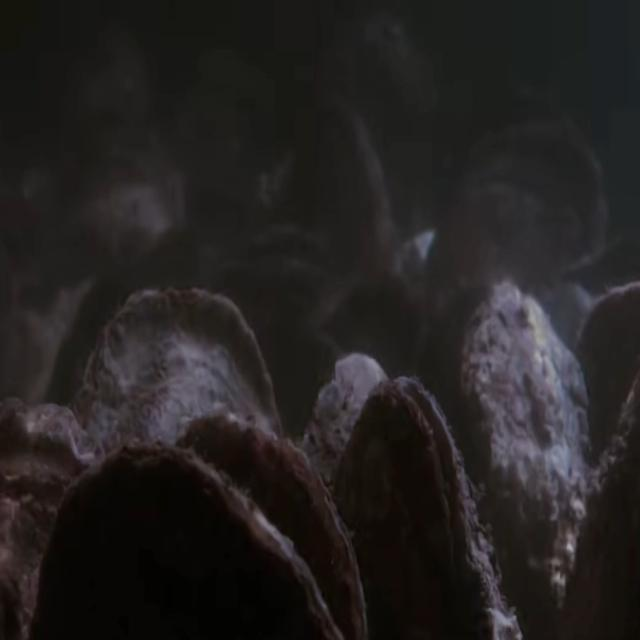Oyster-Closed: (39, 441, 343, 640), (175, 411, 369, 640), (0, 396, 104, 640)
Oyster-Indeterminate: (73, 291, 281, 640), (452, 281, 592, 640), (422, 119, 609, 334), (299, 353, 393, 640), (290, 90, 396, 293), (58, 146, 190, 278), (575, 281, 640, 509)
Oyster-Open: (332, 375, 512, 640), (216, 220, 349, 318)
